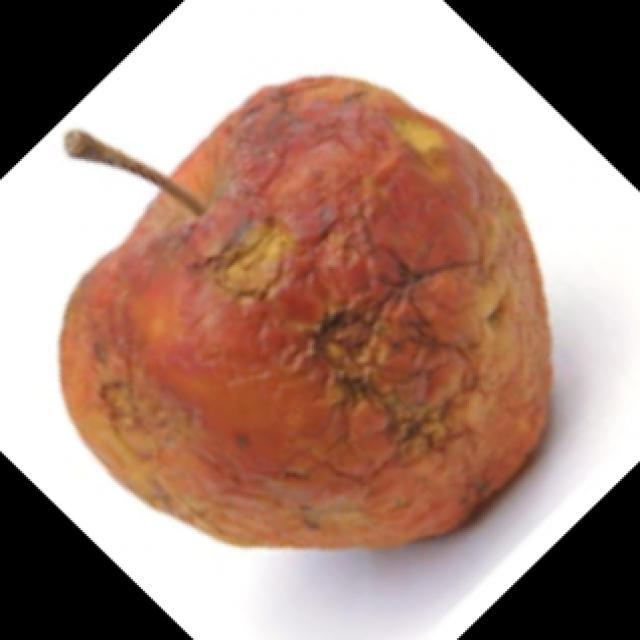Rotten: (70, 78, 553, 630)
